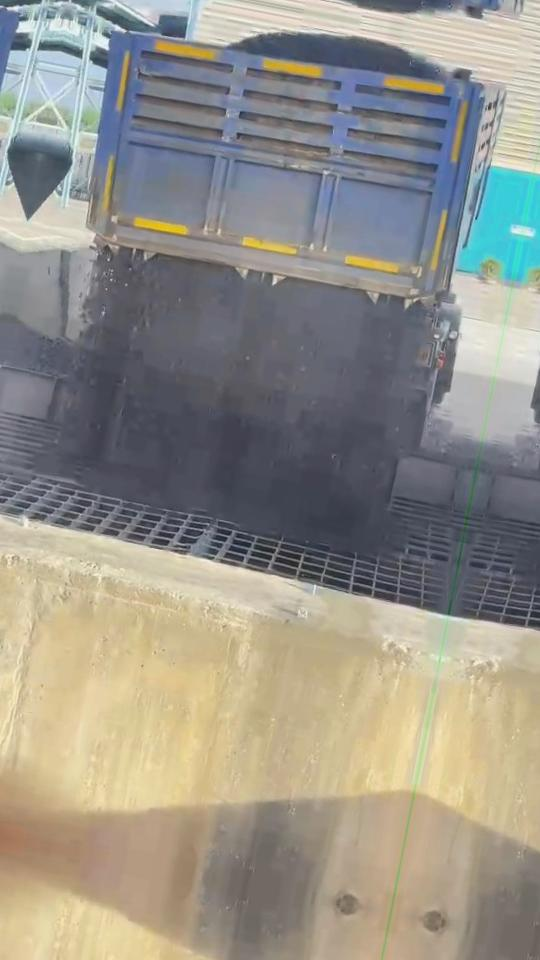gravel: (0, 249, 480, 541), (234, 33, 436, 79)
